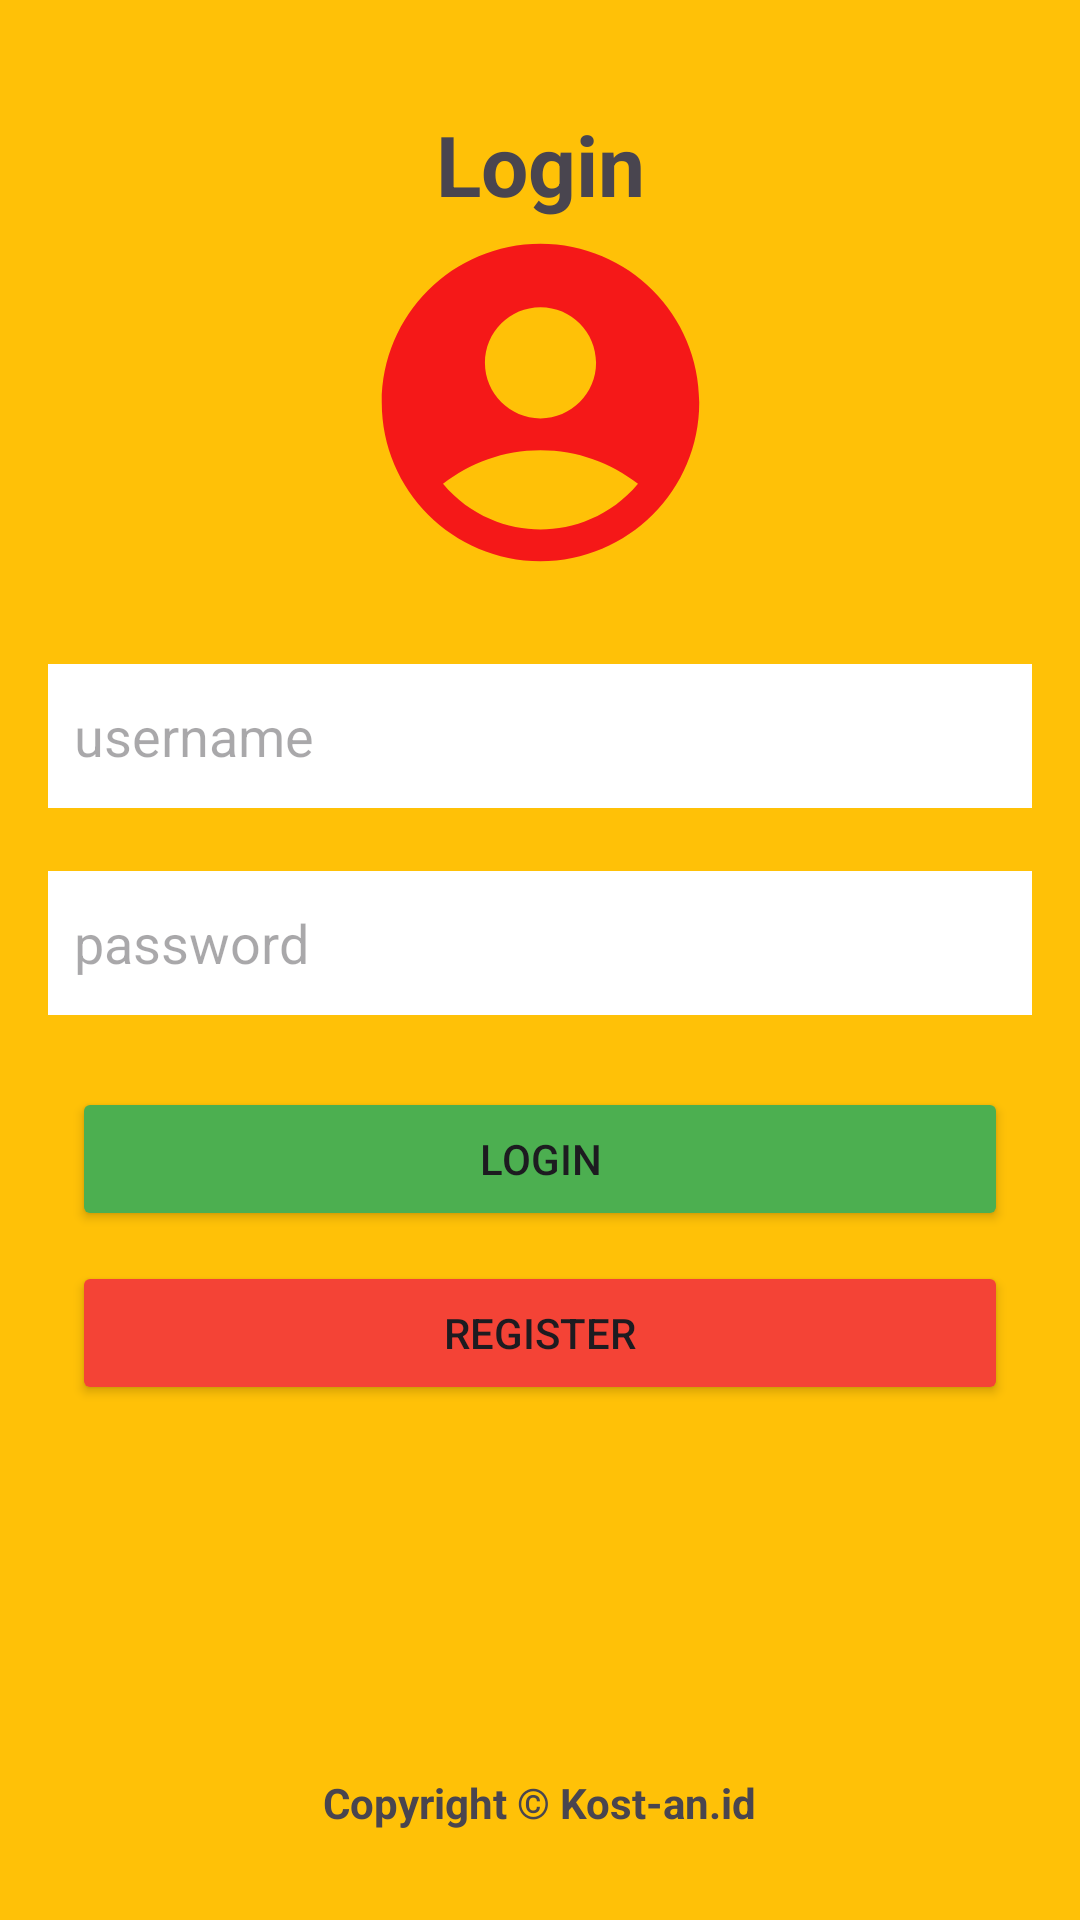

Screen size 1080 × 1920. Icon name, then its box in pixels as region(x1, y1, x2, y2):
account circle: region(381, 243, 700, 562)
